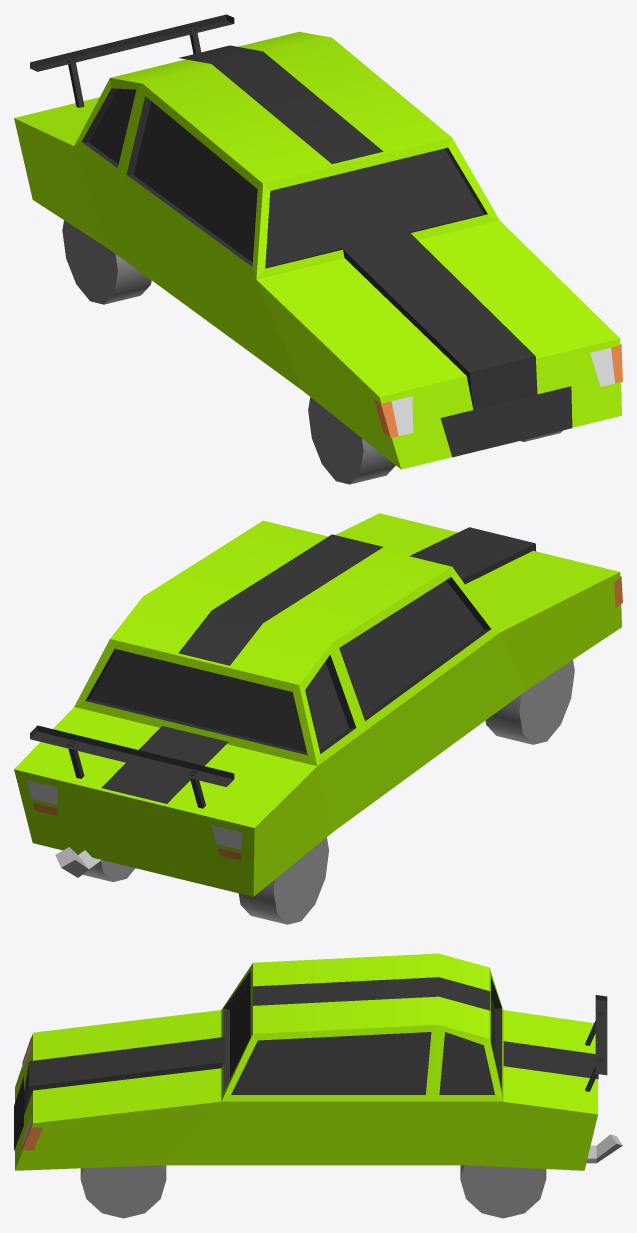
The model's file is sportscar_16.fbx.
3 renders of one model, top to bottom at view 1: azimuth 30°, elevation 25°; view 2: azimuth 150°, elevation 25°; view 3: azimuth 270°, elevation 25°, orthographic. The views are drawn at different scales.
Visible parts, largest first — view 1: sportscar_16; view 2: sportscar_16; view 3: sportscar_16.
Part boxes in pixels (<box>): sportscar_16: <box>14,14,622,484</box>; sportscar_16: <box>14,513,622,924</box>; sportscar_16: <box>14,953,622,1218</box>.
Bounding box in the file's own units: 1.6 × 1.56 × 4.49.
